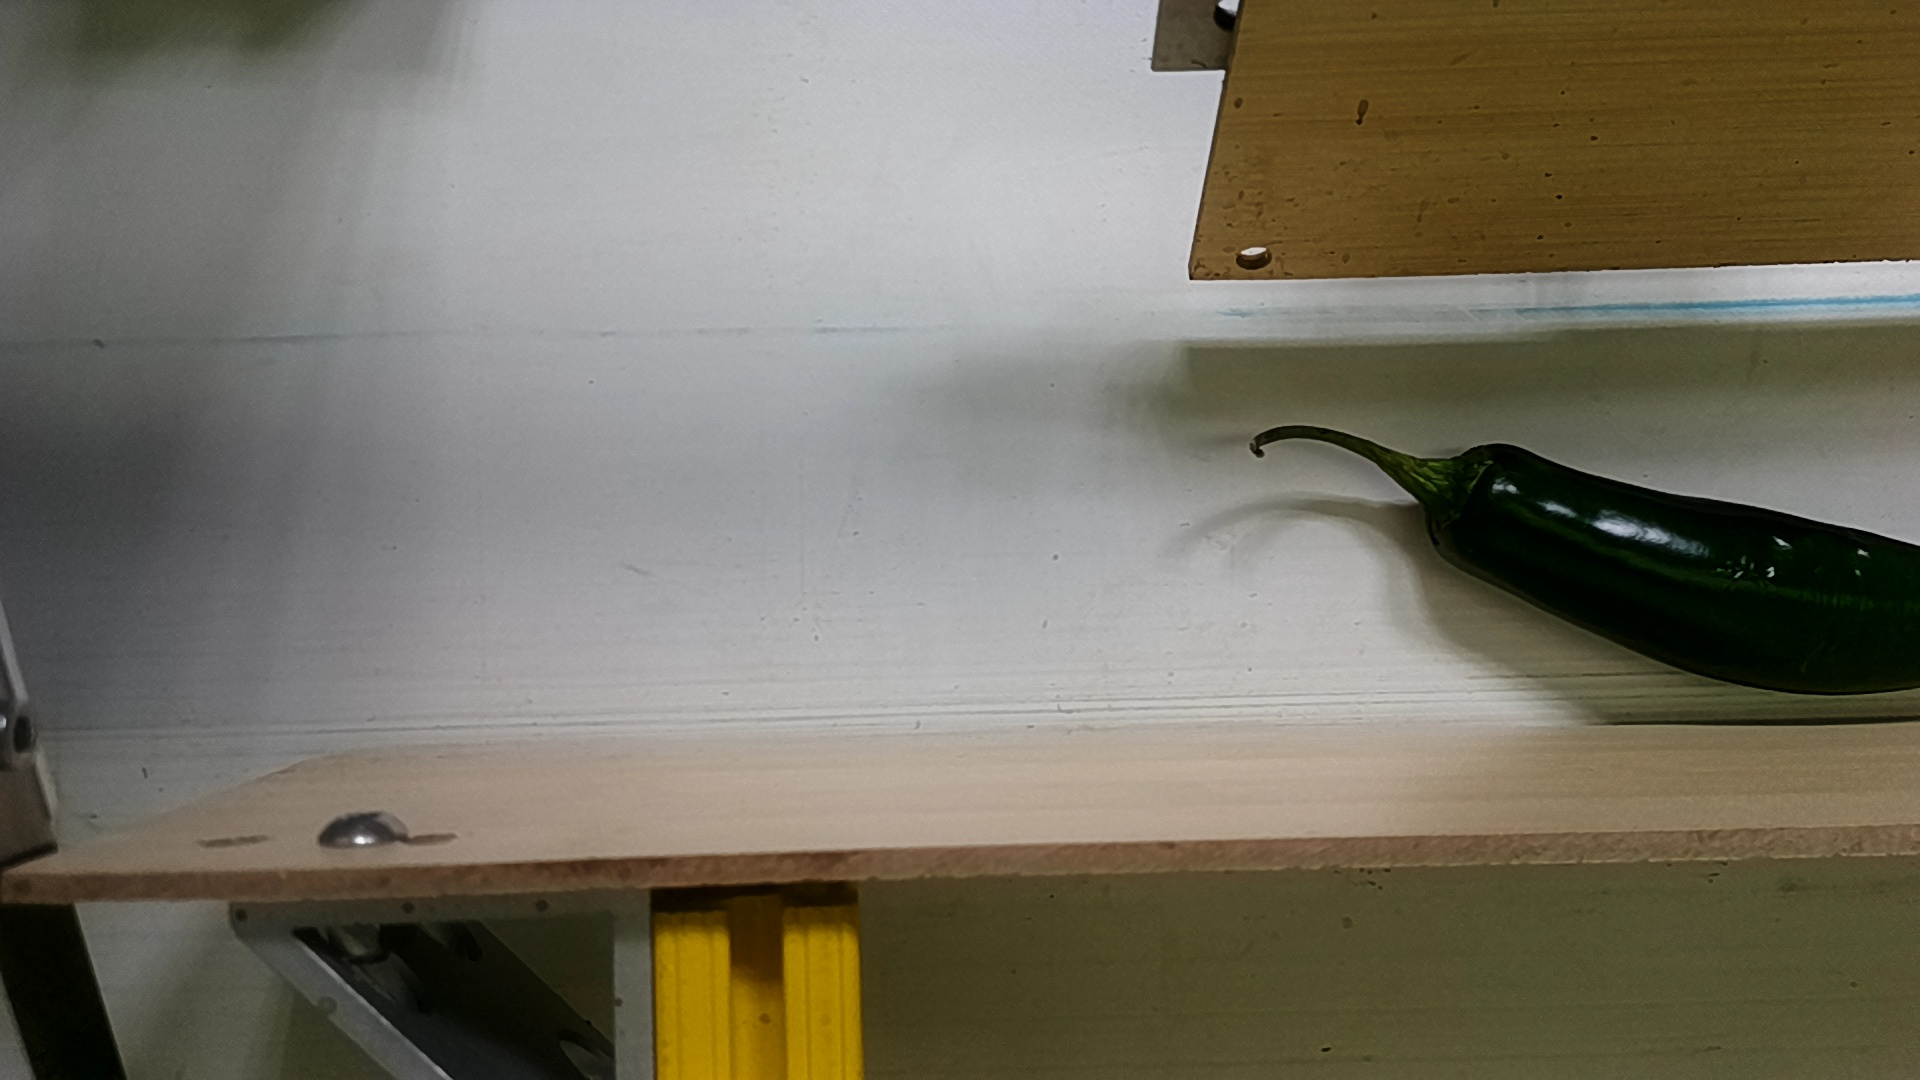Cut Point: (1418, 426, 1526, 578)
